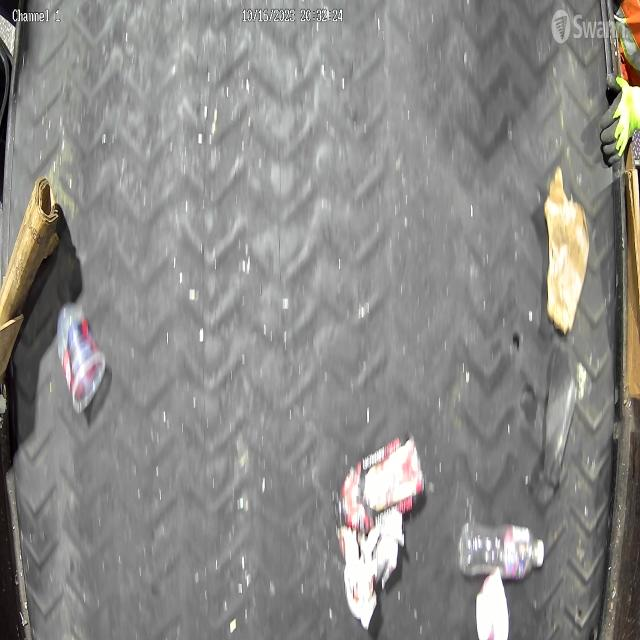plastic_bottle: (458, 520, 546, 580)
